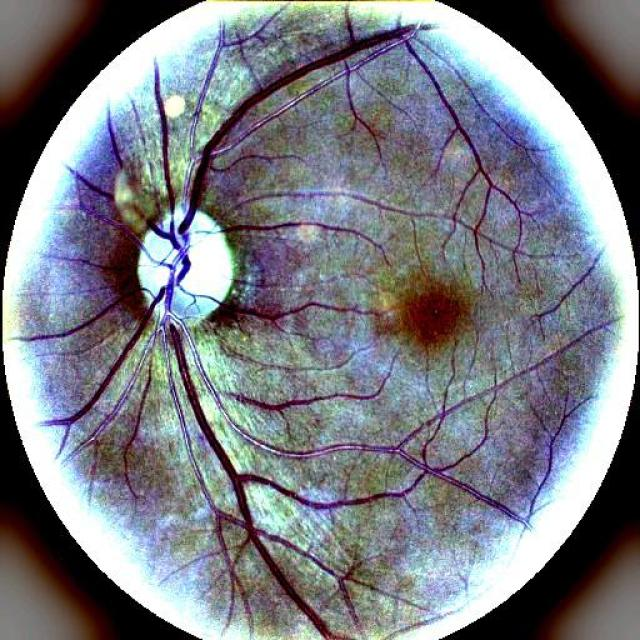Macula: (379, 278, 469, 351)
Nerves: (57, 23, 406, 633)
Optic Disk: (176, 214, 234, 318), (139, 231, 174, 294)
